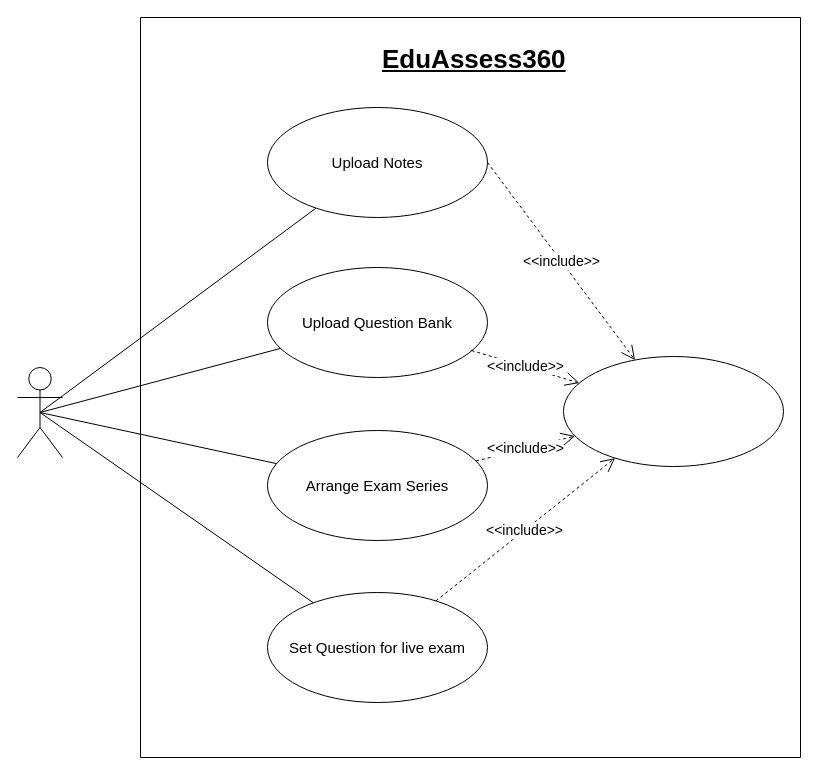
The diagram is 818 pixels wide and 775 high, and some of its shapes have lost their labels. The shapes that lost their labels are listed below. From the top down, each one's box as (x1, y1, x2, y2) in pixels, then its label:
(16, 366, 62, 458): Setter
(562, 356, 784, 466): Login
